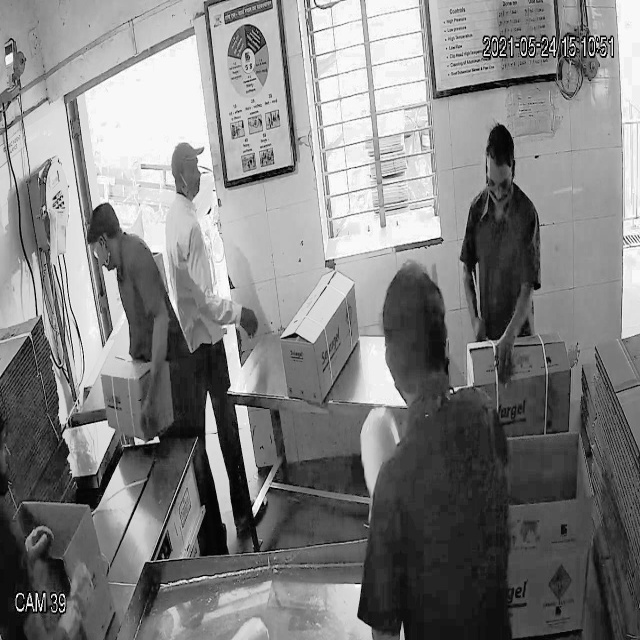Gafas: (481, 167, 518, 200)
